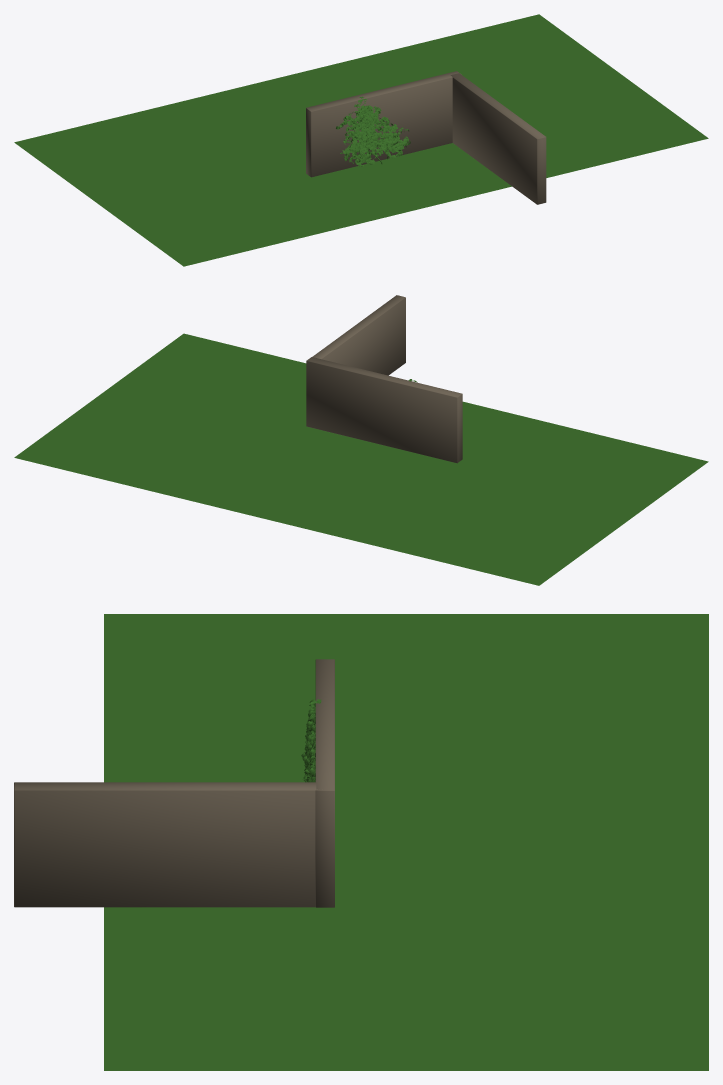
The model's file is boston+ivy.obj.
The picture shows the model from 3 angles, top to bottom: view 1: azimuth 30°, elevation 25°; view 2: azimuth 150°, elevation 25°; view 3: azimuth 270°, elevation 25°; orthographic projection. The views are drawn at different scales.
Visible parts, largest first — view 1: Plane003, Box001, Box002, 01_02_Ivy; view 2: Plane003, Box001, Box002; view 3: Plane003, Box002, Box001, 01_02_Ivy.
Part boxes in pixels (x1=…): Plane003: x1=14, y1=14, x2=708, y2=266; Box001: x1=306, y1=71, x2=461, y2=177; Box002: x1=450, y1=73, x2=546, y2=204; 01_02_Ivy: x1=336, y1=96, x2=410, y2=166; Plane003: x1=14, y1=333, x2=708, y2=585; Box001: x1=306, y1=357, x2=462, y2=463; Box002: x1=312, y1=295, x2=405, y2=375; Plane003: x1=104, y1=614, x2=708, y2=1070; Box002: x1=14, y1=782, x2=322, y2=907; Box001: x1=315, y1=659, x2=334, y2=907; 01_02_Ivy: x1=301, y1=699, x2=321, y2=782.
Size of the model in its own units: 1667 by 219 by 1072.
